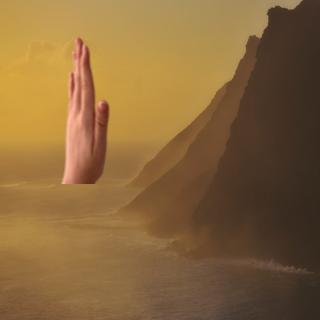Right: (55, 34, 116, 178)
